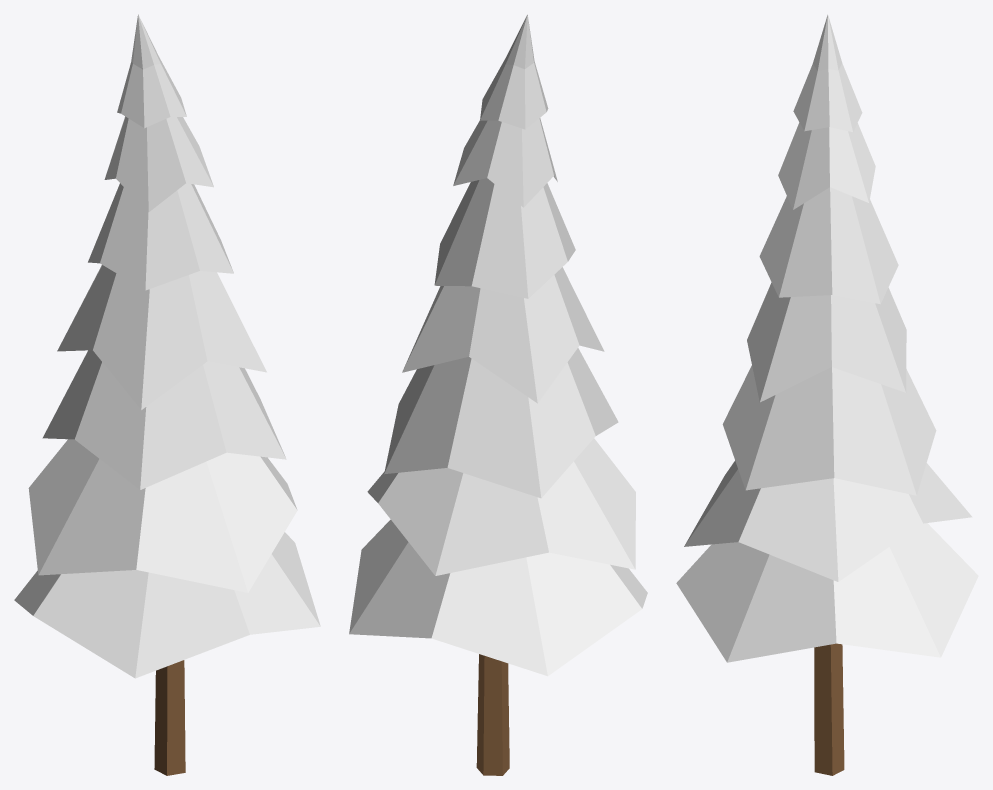
File: Pine_Tree_OneSided_l_Snow_04.fbx
3 renders of one model, left to right at view 1: azimuth 30°, elevation 25°; view 2: azimuth 150°, elevation 25°; view 3: azimuth 270°, elevation 25°, orthographic. The views are drawn at different scales.
Visible parts, largest first — view 1: Pine_Tree_OneSided_l_Snow_04; view 2: Pine_Tree_OneSided_l_Snow_04; view 3: Pine_Tree_OneSided_l_Snow_04.
Part boxes in pixels (<box>): Pine_Tree_OneSided_l_Snow_04: <box>14,14,320,775</box>; Pine_Tree_OneSided_l_Snow_04: <box>349,14,647,775</box>; Pine_Tree_OneSided_l_Snow_04: <box>676,14,978,775</box>.
Bounding box in the file's own units: 671 × 1805 × 669.
